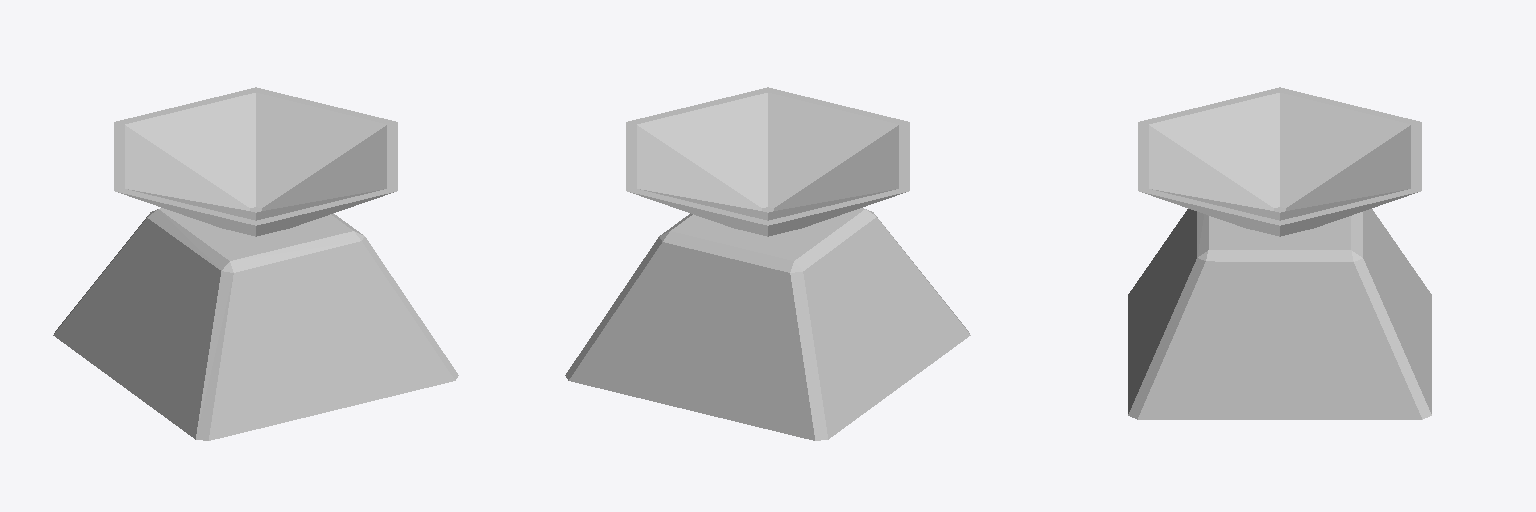
Rendered from Brazier.obj.
3 views of the same model, side by side, from view 1: azimuth 30°, elevation 25°; view 2: azimuth 150°, elevation 25°; view 3: azimuth 270°, elevation 25° (orthographic).
Parts seen in each view (by area): view 1: Brazier; view 2: Brazier; view 3: Brazier.
Part boxes in pixels (x1,y1,x2,y2): Brazier: (53,87,458,440); Brazier: (565,87,970,440); Brazier: (1128,87,1431,419).
Size of the model in its own units: 9.37 by 6.28 by 8.7.